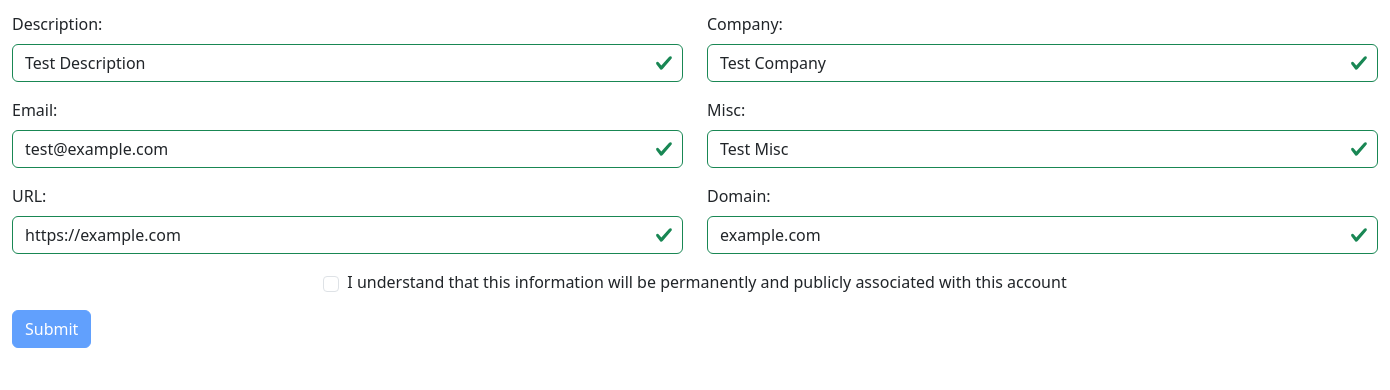
Scenario: EditAccountForm › validates URL format
Replace the text in the field labelled "URL:" with "invalid-url" at point(348, 235), box [12,216,683,254]
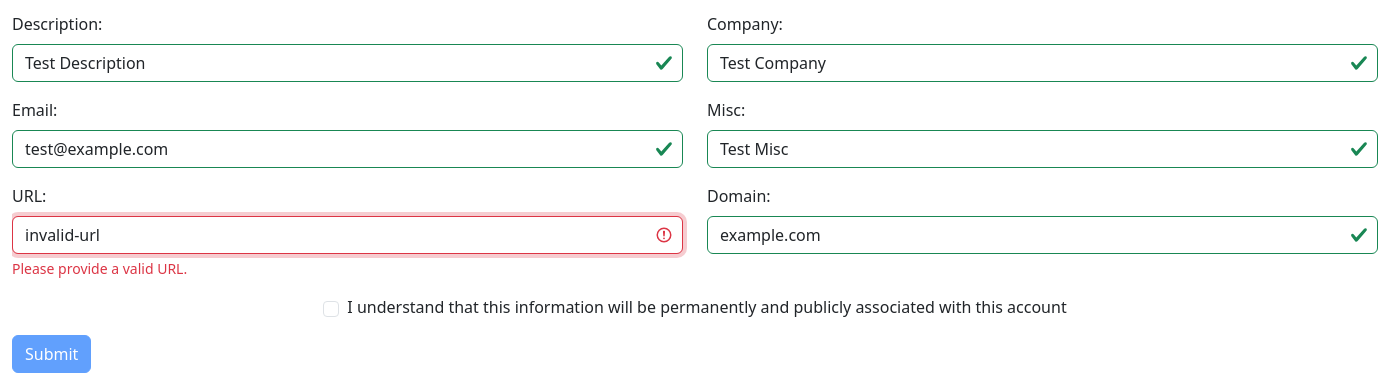
Result: the text "Please provide a valid URL." is shown at [12,259,187,278]
